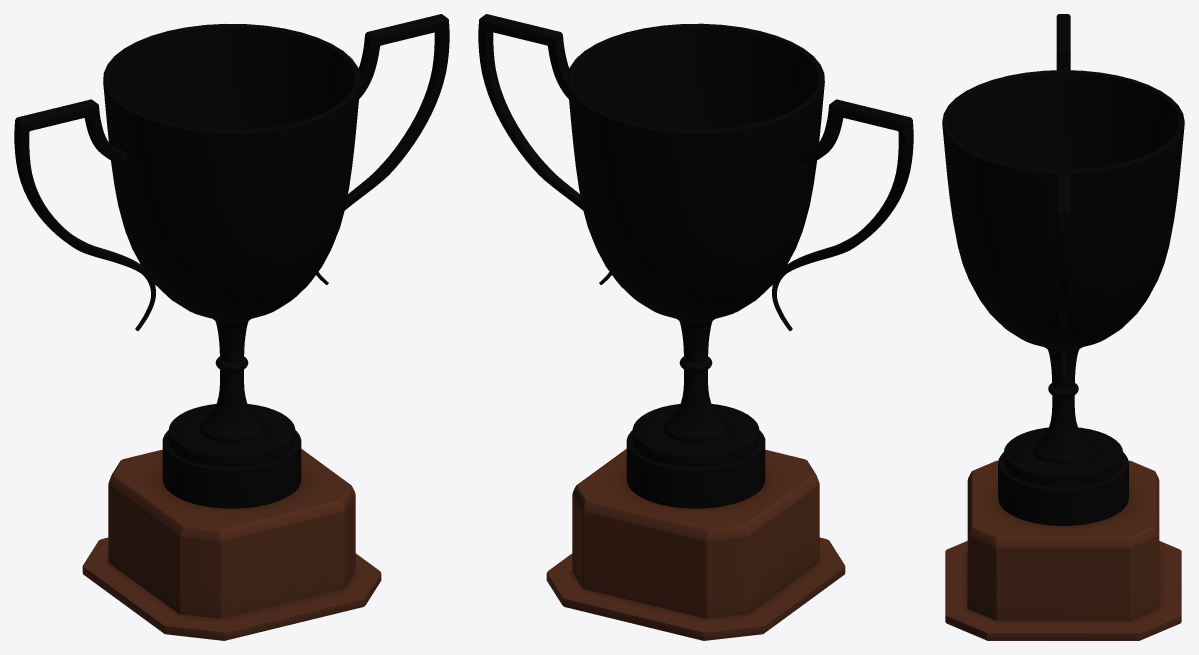
Rendered from Gold Trophy.glb.
The picture shows the model from 3 angles, left to right: view 1: azimuth 30°, elevation 25°; view 2: azimuth 150°, elevation 25°; view 3: azimuth 270°, elevation 25°; orthographic projection. The views are drawn at different scales.
Visible parts, largest first — view 1: trophy.1; view 2: trophy.1; view 3: trophy.1.
Part boxes in pixels (left/top/right/bottom): trophy.1: left=14, top=14, right=449, bottom=640; trophy.1: left=478, top=14, right=913, bottom=640; trophy.1: left=942, top=14, right=1184, bottom=640.
Bounding box in the file's own units: 0.0418 × 0.0474 × 0.0217.
Materials: 1 (1 with a texture image).
